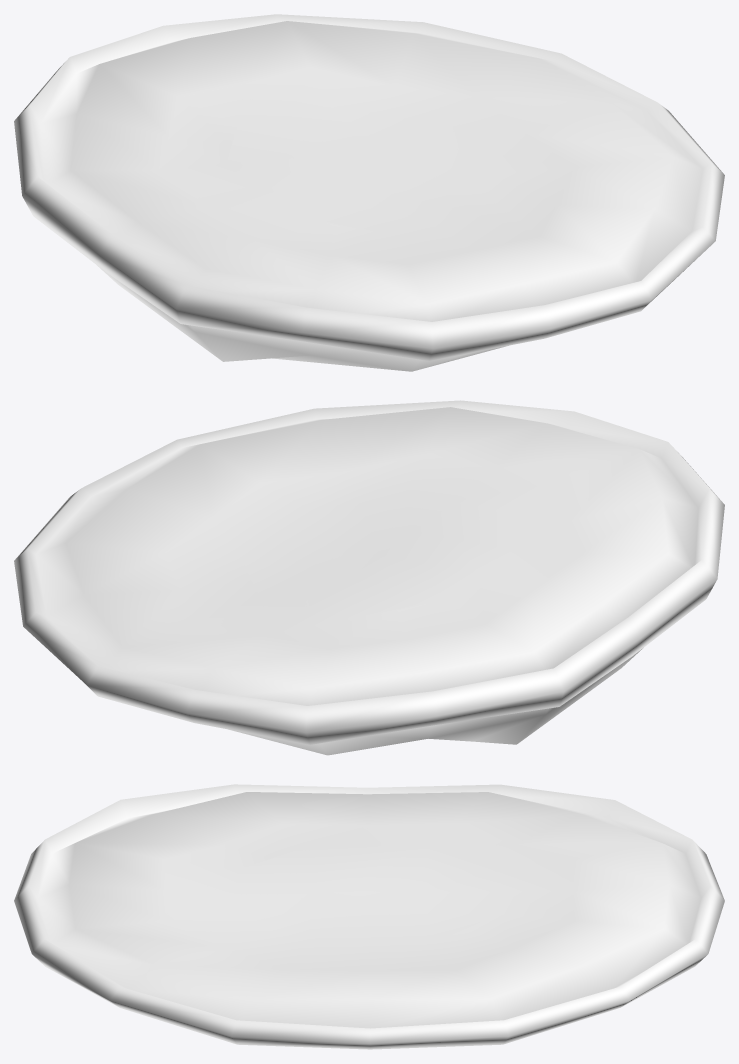
The model's file is Cogumelo.fbx.
The picture shows the model from 3 angles, top to bottom: view 1: azimuth 30°, elevation 25°; view 2: azimuth 150°, elevation 25°; view 3: azimuth 270°, elevation 25°; orthographic projection. The views are drawn at different scales.
Parts seen in each view (by area): view 1: Cogumelo; view 2: Cogumelo; view 3: Cogumelo.
Part boxes in pixels (x1=…): Cogumelo: x1=14, y1=14, x2=724, y2=371; Cogumelo: x1=14, y1=400, x2=724, y2=755; Cogumelo: x1=14, y1=784, x2=724, y2=1049.
Bounding box in the file's own units: 222 × 50.22 × 268.
